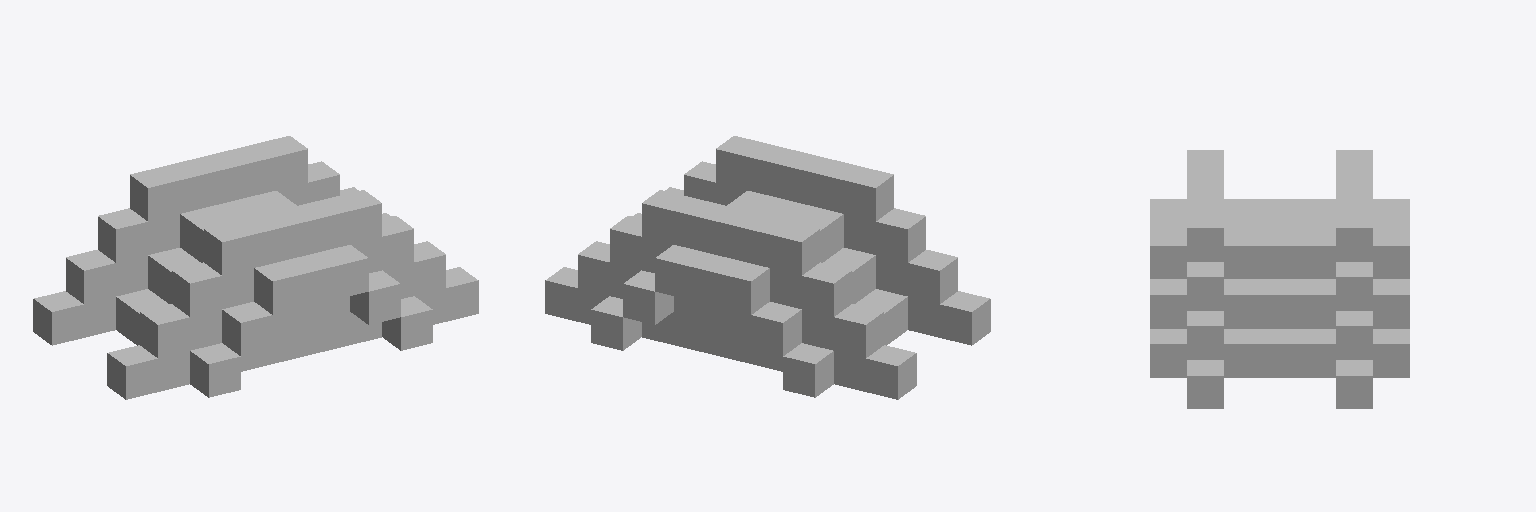
File: leverbase.obj
3 renders of one model, left to right at view 1: azimuth 30°, elevation 25°; view 2: azimuth 150°, elevation 25°; view 3: azimuth 270°, elevation 25°, orthographic.
Bounding box in the file's own units: 11 × 4 × 7.